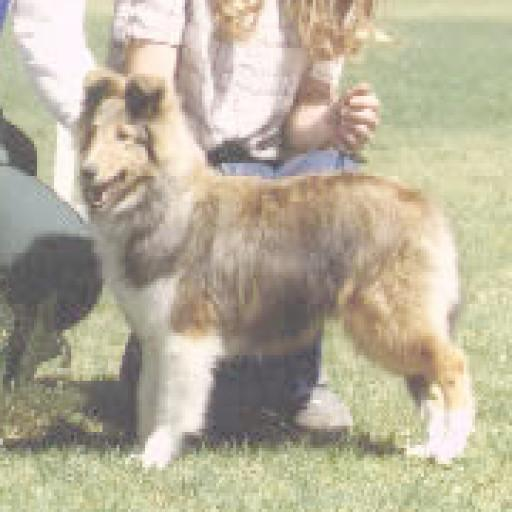dog_face: (75, 74, 178, 220)
